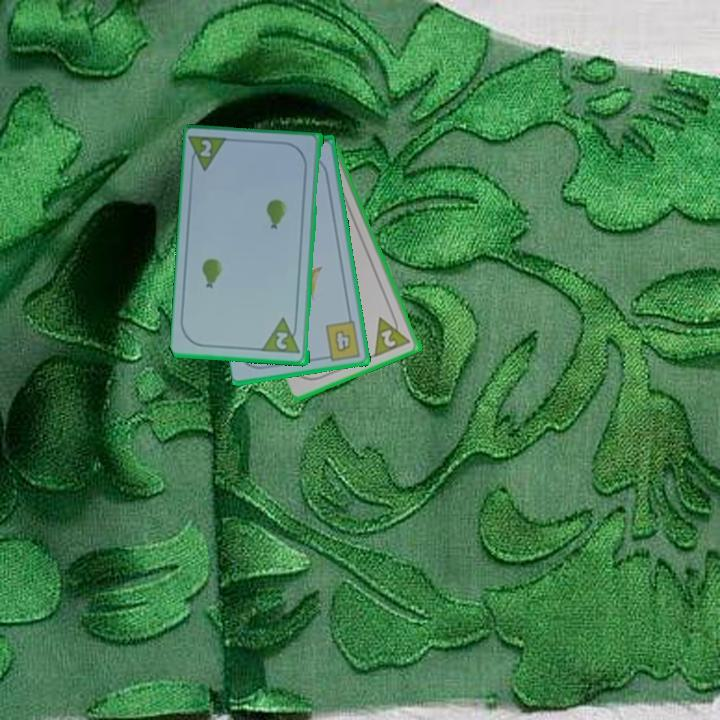2p: (371, 309, 414, 359), (197, 136, 215, 160), (273, 329, 291, 352)
4b: (320, 317, 364, 363)
